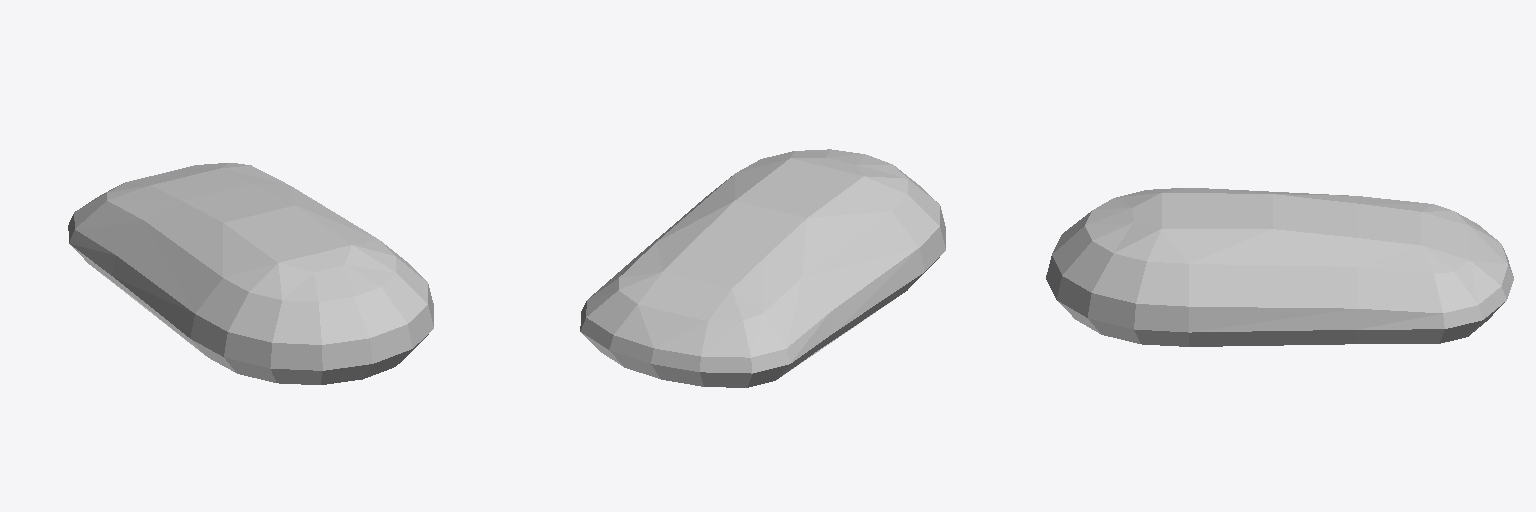
File: pc_mouse_mp_2.obj
The picture shows the model from 3 angles: view 1: azimuth 30°, elevation 25°; view 2: azimuth 150°, elevation 25°; view 3: azimuth 270°, elevation 25°; orthographic projection.
Visible parts, largest first — view 1: pc_mouse_mp_2; view 2: pc_mouse_mp_2; view 3: pc_mouse_mp_2.
Boxes of the visible parts, box(x1,y1,x2,y2) form: pc_mouse_mp_2: box(68, 163, 433, 384); pc_mouse_mp_2: box(580, 149, 945, 387); pc_mouse_mp_2: box(1046, 188, 1513, 346).
Bounding box in the file's own units: 0.0809 × 0.0315 × 0.1475.